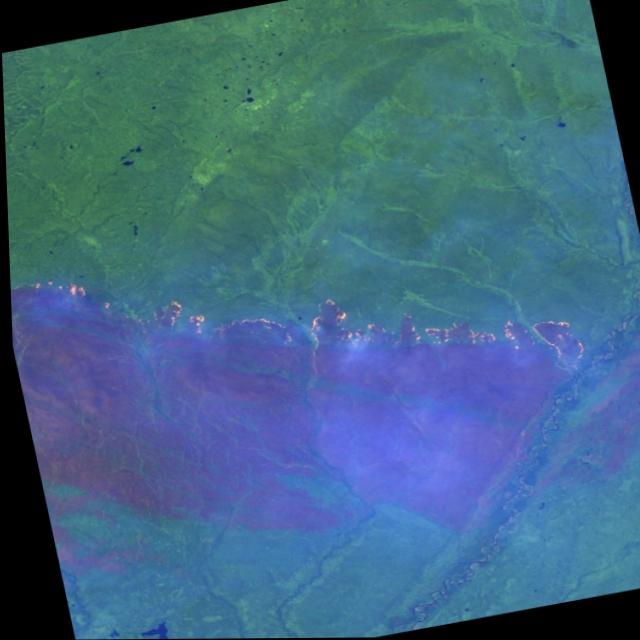fire: (5, 182, 595, 464)
